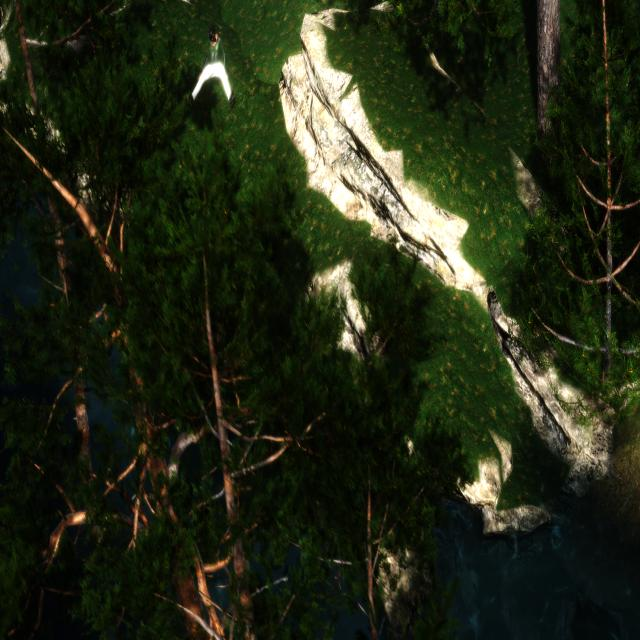Human: (182, 22, 238, 114)
